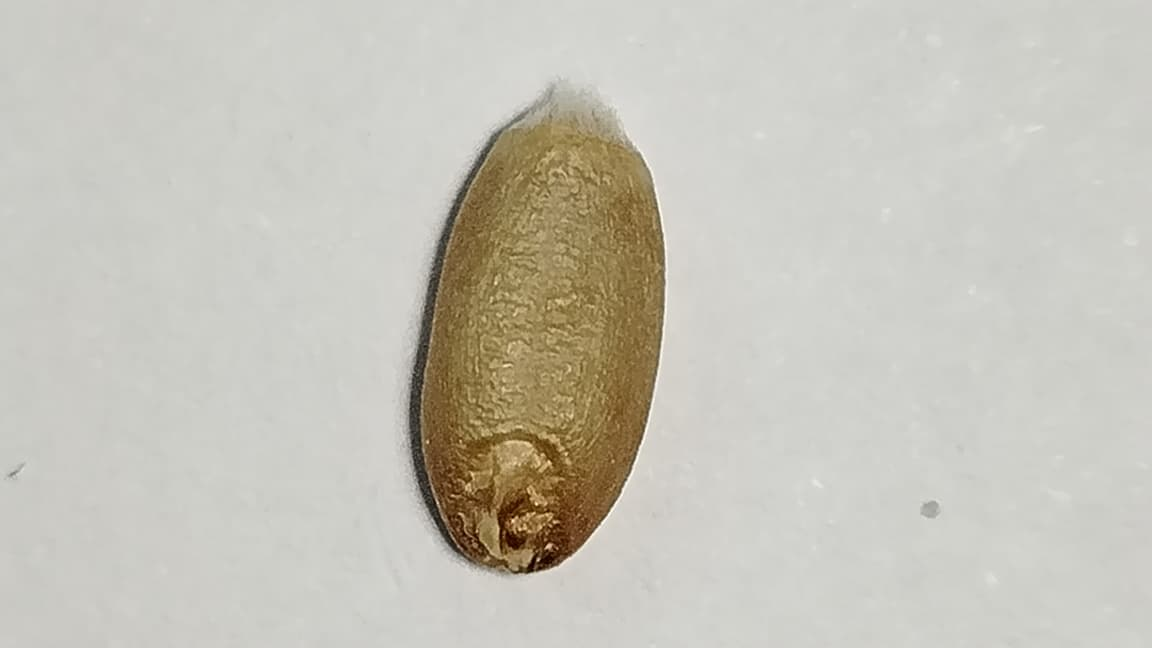healthy: (421, 121, 663, 571)
